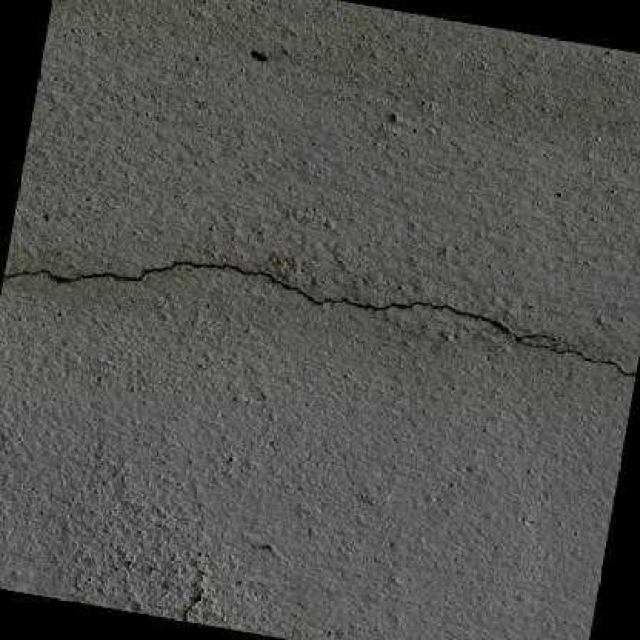D00: (2, 259, 568, 342), (528, 343, 636, 372)
